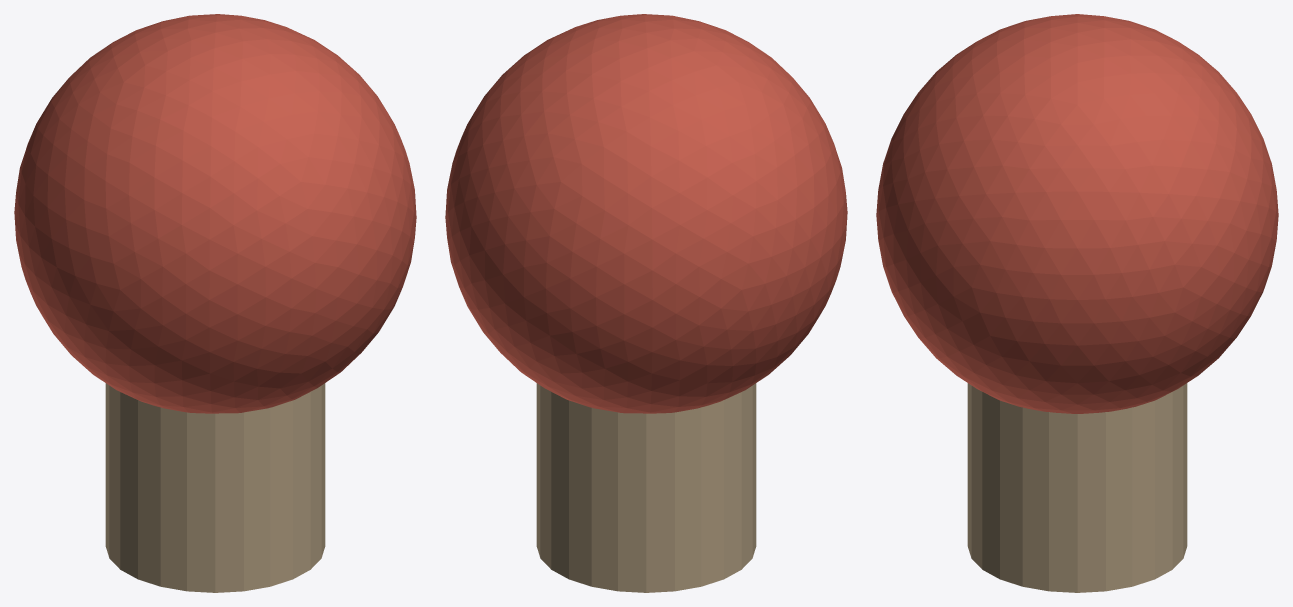
File: mushroom_source.glb
3 renders of one model, left to right at view 1: azimuth 30°, elevation 25°; view 2: azimuth 150°, elevation 25°; view 3: azimuth 270°, elevation 25°, orthographic.
Visible parts, largest first — view 1: world; view 2: world; view 3: world.
Boxes of the visible parts, box(x1,y1,x2,y2) form: world: box(14, 14, 416, 592); world: box(445, 14, 847, 592); world: box(876, 14, 1278, 592).
Size of the model in its own units: 22 by 31 by 22.
